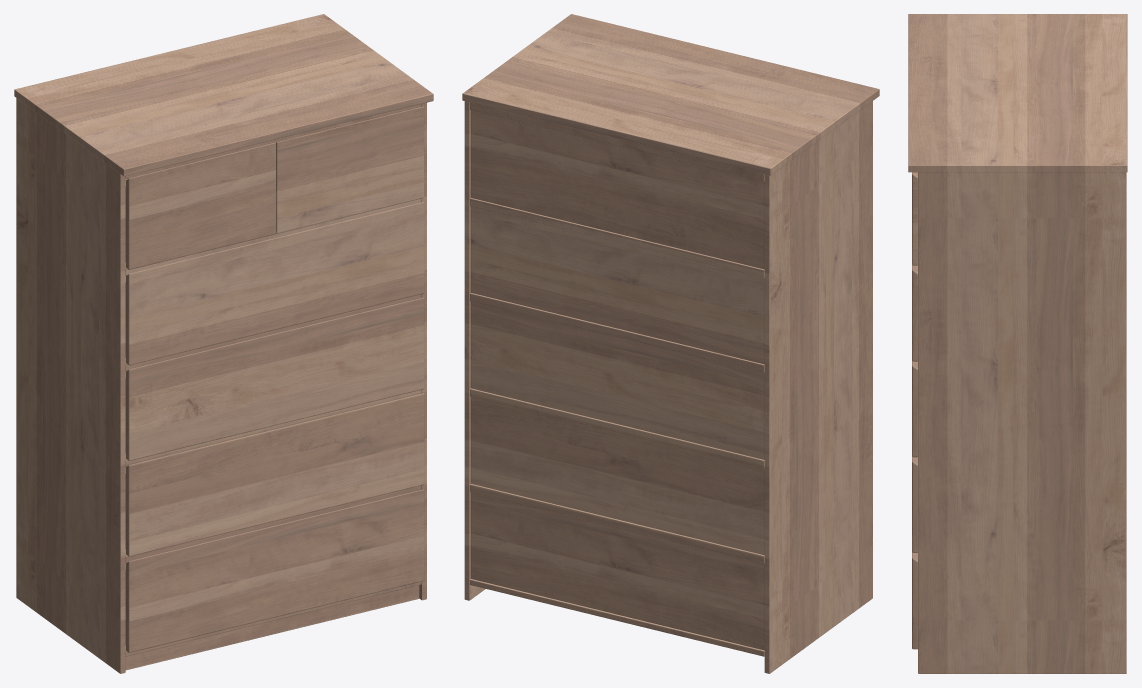
File: Locker 1.obj
3 views of the same model, side by side, from view 1: azimuth 30°, elevation 25°; view 2: azimuth 150°, elevation 25°; view 3: azimuth 270°, elevation 25° (orthographic).
Visible parts, largest first — view 1: Box090, Box087, Box088, Box089, Box091, Box092, Box093; view 2: Box090; view 3: Box090, Box087, Box091, Box089, Box088, Box093.
Boxes of the visible parts, x1,y1,x2,y2 form: Box090: (14, 14, 433, 673); Box087: (125, 489, 424, 652); Box088: (125, 393, 424, 556); Box089: (125, 297, 424, 460); Box091: (125, 202, 424, 365); Box092: (125, 142, 275, 269); Box093: (276, 106, 424, 233); Box090: (462, 14, 879, 673); Box090: (908, 14, 1127, 673); Box087: (912, 552, 917, 649); Box091: (912, 265, 917, 361); Box089: (912, 361, 917, 457); Box088: (912, 456, 917, 552); Box093: (912, 172, 917, 265).
Size of the model in its own units: 808 by 1267 by 495.
